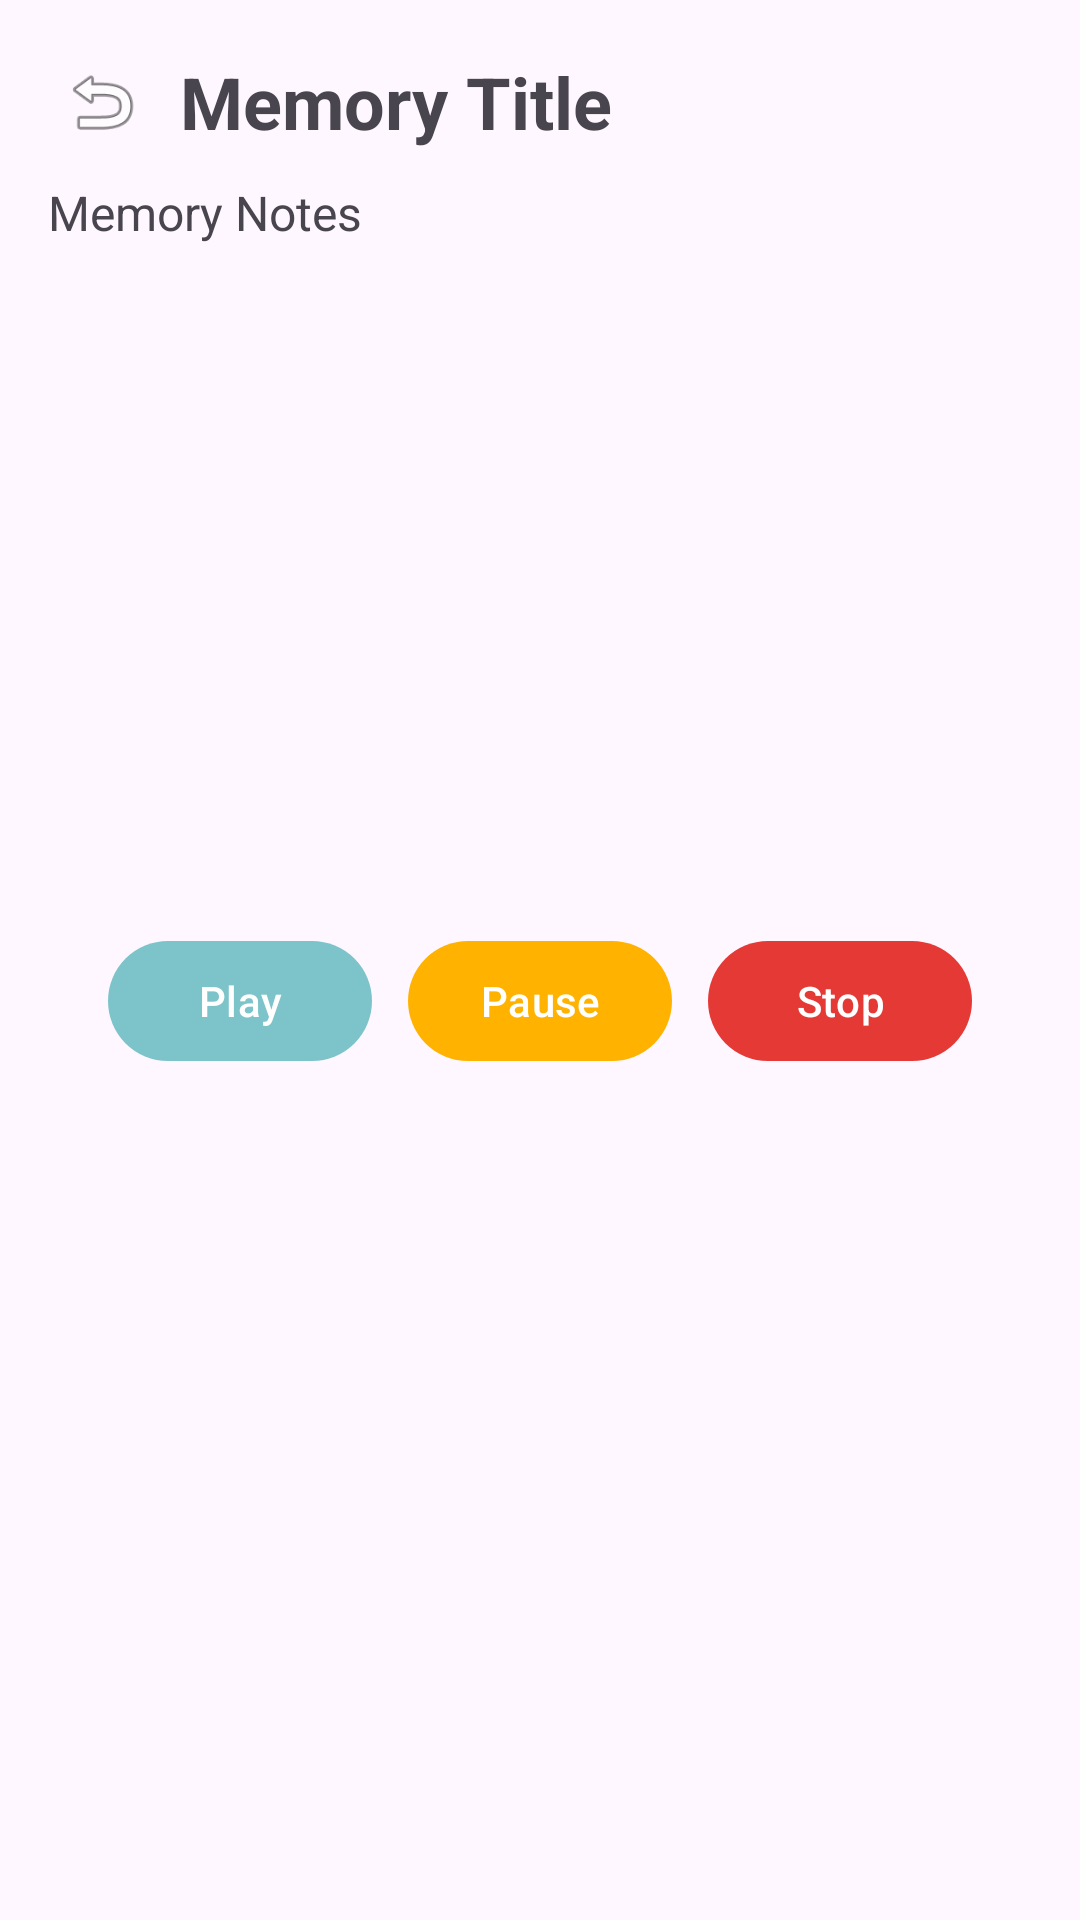

Screen size 1080w x 1920h. Icon name, then its center in pixels as point (x, y):
Back: point (103, 102)
